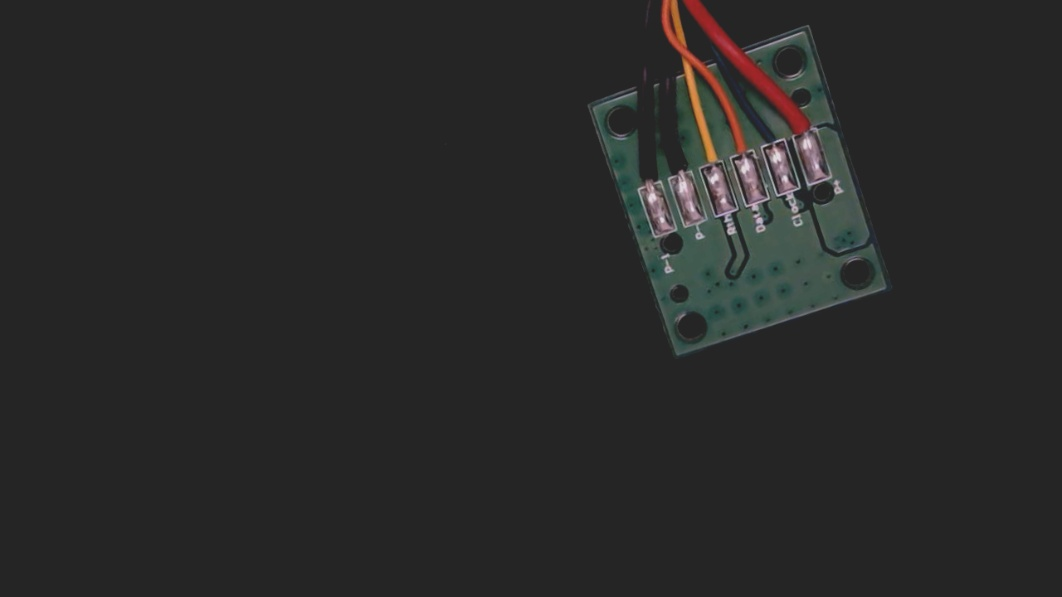Black: (655, 131, 698, 191)
Black1: (622, 143, 666, 205)
Green: (749, 106, 791, 163)
Orange: (715, 108, 760, 173)
Red: (781, 98, 823, 152)
Yellow: (682, 116, 730, 183)
